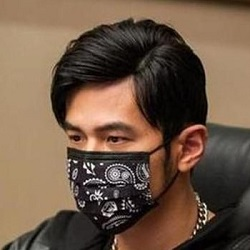mask: (63, 144, 170, 234)
